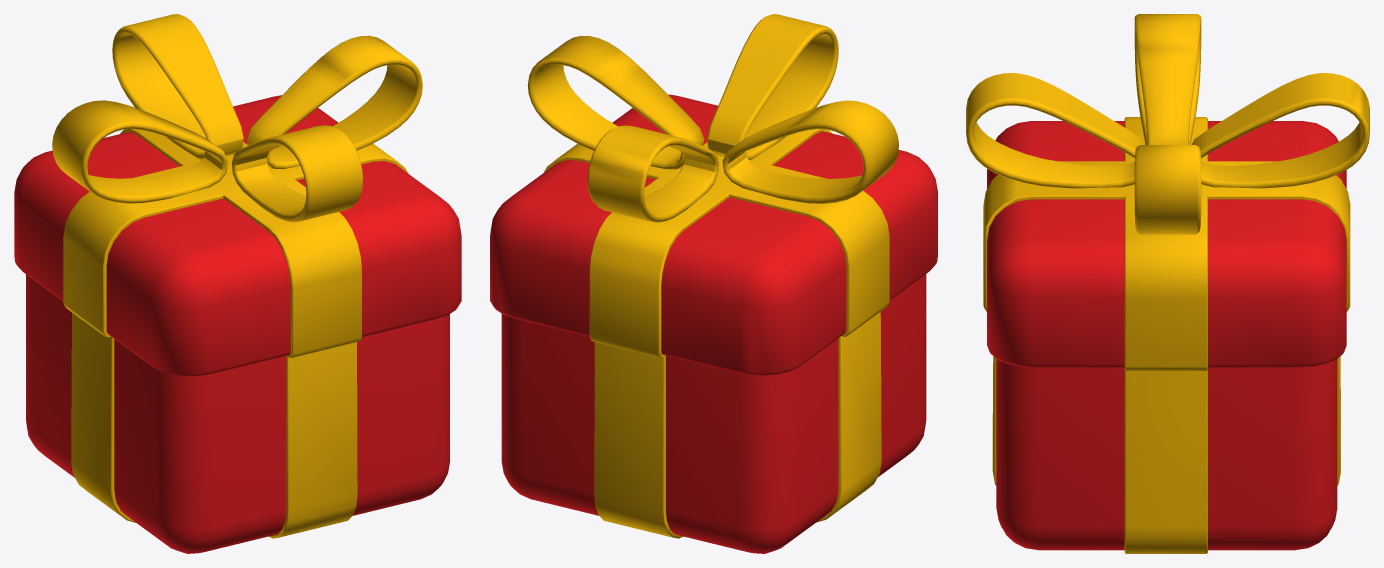
File: present.glb
3 views of the same model, side by side, from view 1: azimuth 30°, elevation 25°; view 2: azimuth 150°, elevation 25°; view 3: azimuth 270°, elevation 25° (orthographic). The views are drawn at different scales.
Parts seen in each view (by area): view 1: Circle005_1, Circle005; view 2: Circle005_1, Circle005; view 3: Circle005_1, Circle005.
Part boxes in pixels (left/top/right/bottom): Circle005_1: left=14, top=95, right=461, bottom=553; Circle005: left=52, top=14, right=422, bottom=538; Circle005_1: left=490, top=94, right=937, bottom=553; Circle005: left=527, top=14, right=898, bottom=538; Circle005_1: left=987, top=121, right=1346, bottom=550; Circle005: left=966, top=14, right=1369, bottom=553.
Size of the model in its own units: 1.66 by 1.86 by 1.66.
